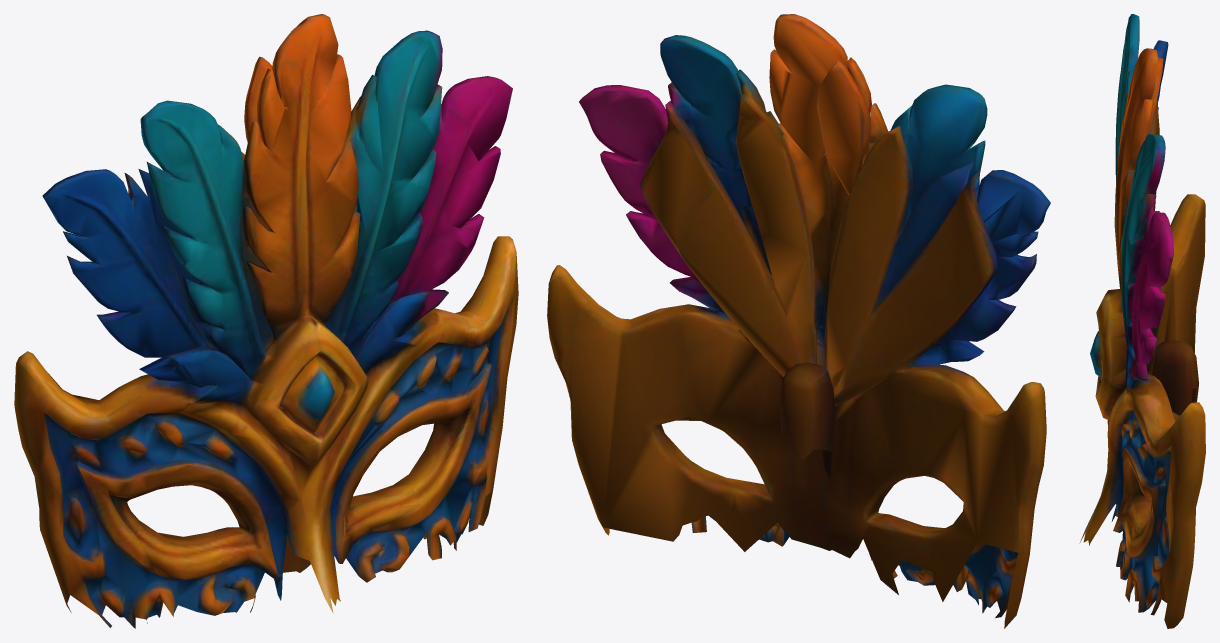
3 renders of one model, left to right at view 1: azimuth 30°, elevation 25°; view 2: azimuth 150°, elevation 25°; view 3: azimuth 270°, elevation 25°, orthographic. The views are drawn at different scales.
Parts seen in each view (by area): view 1: material; view 2: material; view 3: material.
Boxes of the visible parts, left/top/right/bottom form: material: left=14, top=14, right=518, bottom=628; material: left=547, top=14, right=1050, bottom=628; material: left=1079, top=14, right=1205, bottom=628.
Bounding box in the file's own units: 0.5089 × 0.5485 × 0.1253.
Materials: 1 (1 with a texture image).
